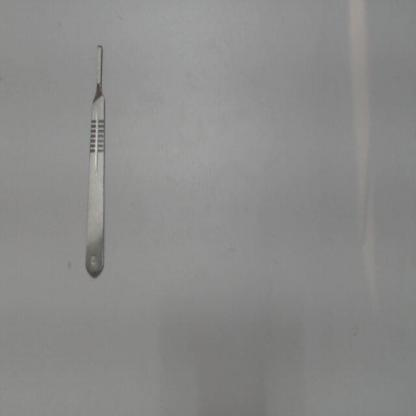No.4 BP Handle: (82, 30, 108, 282)
